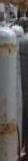cylinder: (1, 1, 28, 161)
